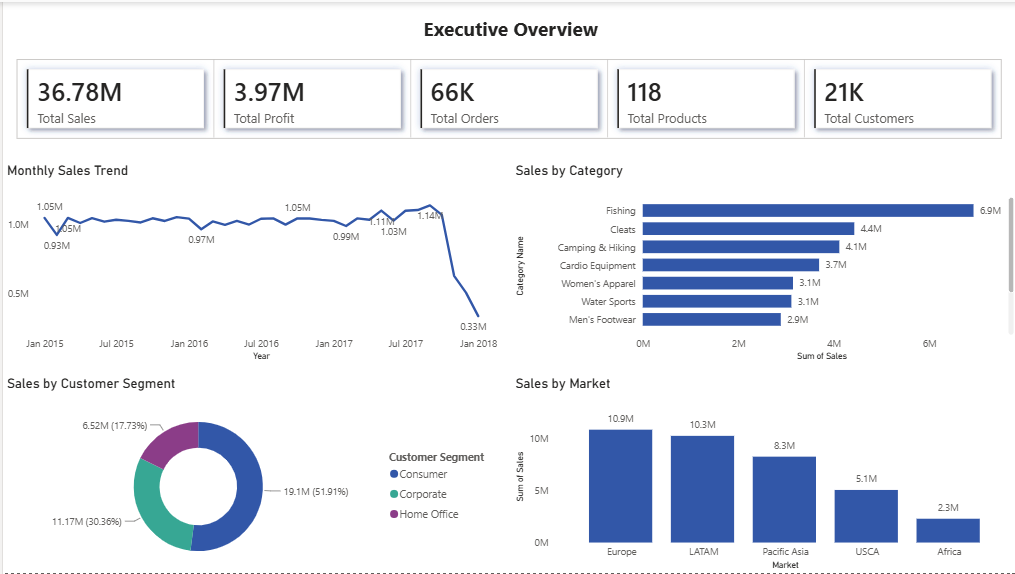

This screenshot's page, from the dashboard's own definition file:
{"tool":"powerbi","page":{"name":"Executive Overview","canvas":[1280,720],"ordinal":0},"visuals":[{"type":"cardVisual","fields":{"Data":["DataCoSupplyChain_Cleaned.Total Sales","DataCoSupplyChain_Cleaned.Total Profit","DataCoSupplyChain_Cleaned.Total Orders","DataCoSupplyChain_Cleaned.Total Products","DataCoSupplyChain_Cleaned.Total Customers"]},"box":[0,54.8,1279.4,134.2],"z":0},{"type":"lineChart","title":"Monthly Sales Trend","fields":{"Y":["DataCoSupplyChain_Cleaned.Total Sales"],"Category":["DataCoSupplyChain_Cleaned.order date (DateOrders).Variation.Date Hierarchy.Year","DataCoSupplyChain_Cleaned.order date (DateOrders).Variation.Date Hierarchy.Month"]},"box":[0,202.2,627.4,255.1],"z":1000},{"type":"barChart","title":"Sales by Category","fields":{"Category":["DataCoSupplyChain_Cleaned.Category Name"],"Y":["Sum(DataCoSupplyChain_Cleaned.Sales)"]},"box":[640.6,202.2,638.7,255.1],"z":2000},{"type":"donutChart","title":"Sales by Customer Segment","fields":{"Category":["DataCoSupplyChain_Cleaned.Customer Segment"],"Y":["Sum(DataCoSupplyChain_Cleaned.Sales)"]},"box":[0,470.6,627.4,249.5],"z":3000},{"type":"clusteredColumnChart","title":"Sales by Market","fields":{"Category":["DataCoSupplyChain_Cleaned.Market"],"Y":["Sum(DataCoSupplyChain_Cleaned.Sales)"]},"box":[640.6,470.6,638.7,249.5],"z":4000},{"type":"textbox","box":[0,11.3,1279.4,43.5],"z":5000}]}

Visuals, with their boxes in screenshot pixels (x1, y1, x2, y2), scaled from the page's 1280x720 canvas onto the 1015x574 screenshot:
cardVisual - DataCoSupplyChain_Cleaned.Total Sales x DataCoSupplyChain_Cleaned.Total Profit: l=0, t=44, r=1014, b=151
"Monthly Sales Trend" lineChart: l=0, t=161, r=498, b=365
"Sales by Category" barChart: l=508, t=161, r=1014, b=365
"Sales by Customer Segment" donutChart: l=0, t=375, r=498, b=573
"Sales by Market" clusteredColumnChart: l=508, t=375, r=1014, b=573
textbox: l=0, t=9, r=1014, b=44
